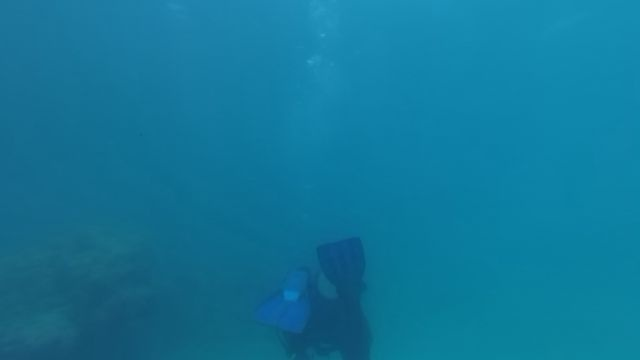Diver: (247, 230, 378, 358)
